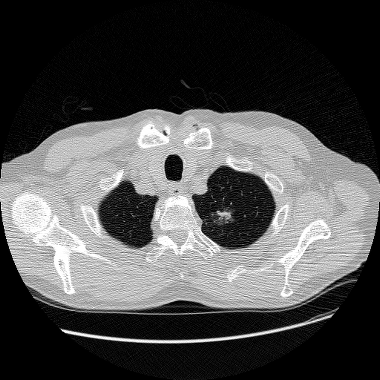nodule: (211, 206, 231, 226)
